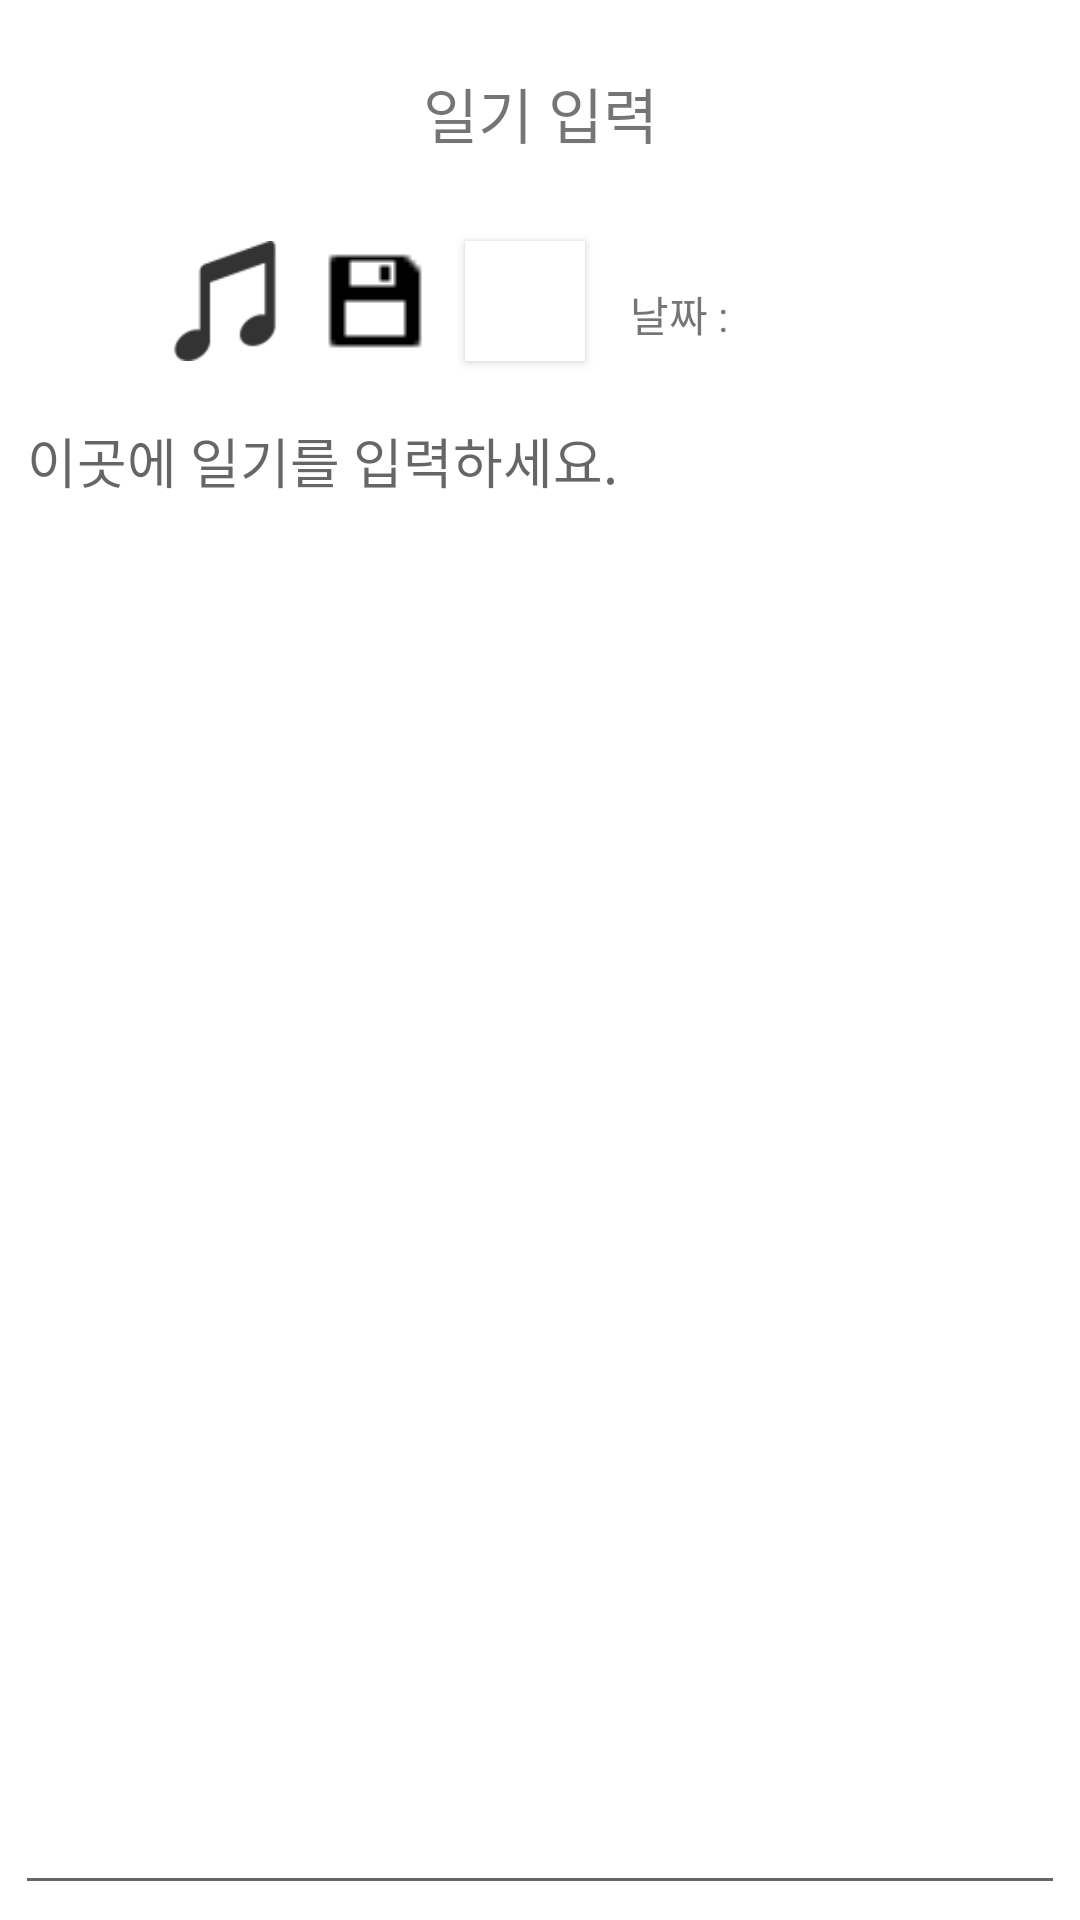

Where to tap for icons on this 1080×1920 app screen, as [x,y]:
musicicon: [225,301]
saveicon: [375,301]
